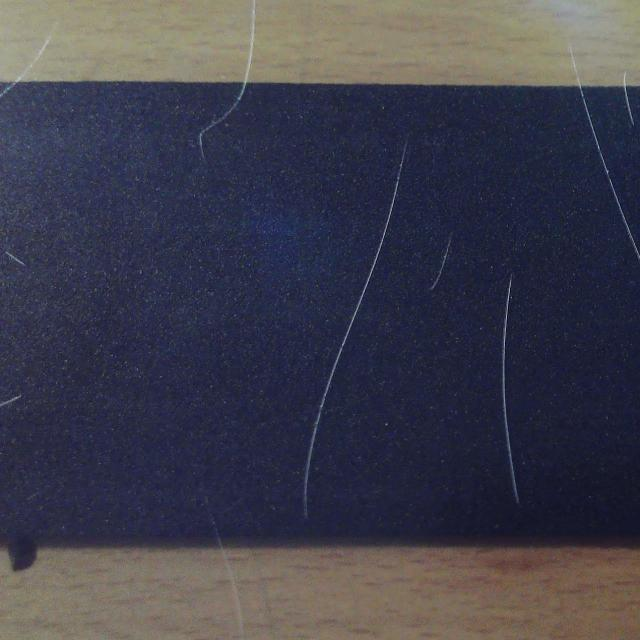defect: (301, 142, 407, 521), (578, 76, 640, 263), (500, 273, 529, 504), (197, 84, 247, 156), (432, 230, 456, 290), (621, 87, 640, 127), (7, 249, 29, 268), (2, 82, 19, 98), (0, 394, 22, 405)
